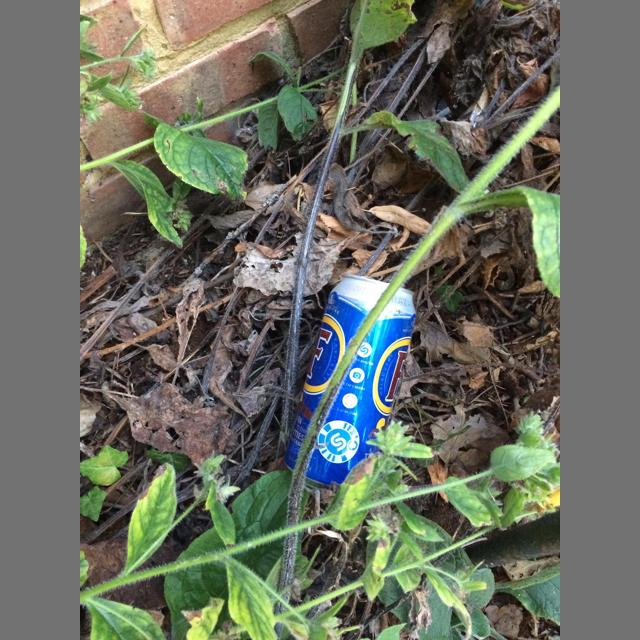litter: (284, 273, 416, 488)
